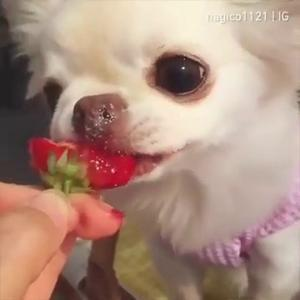nasal_discharge: (79, 95, 116, 136)
